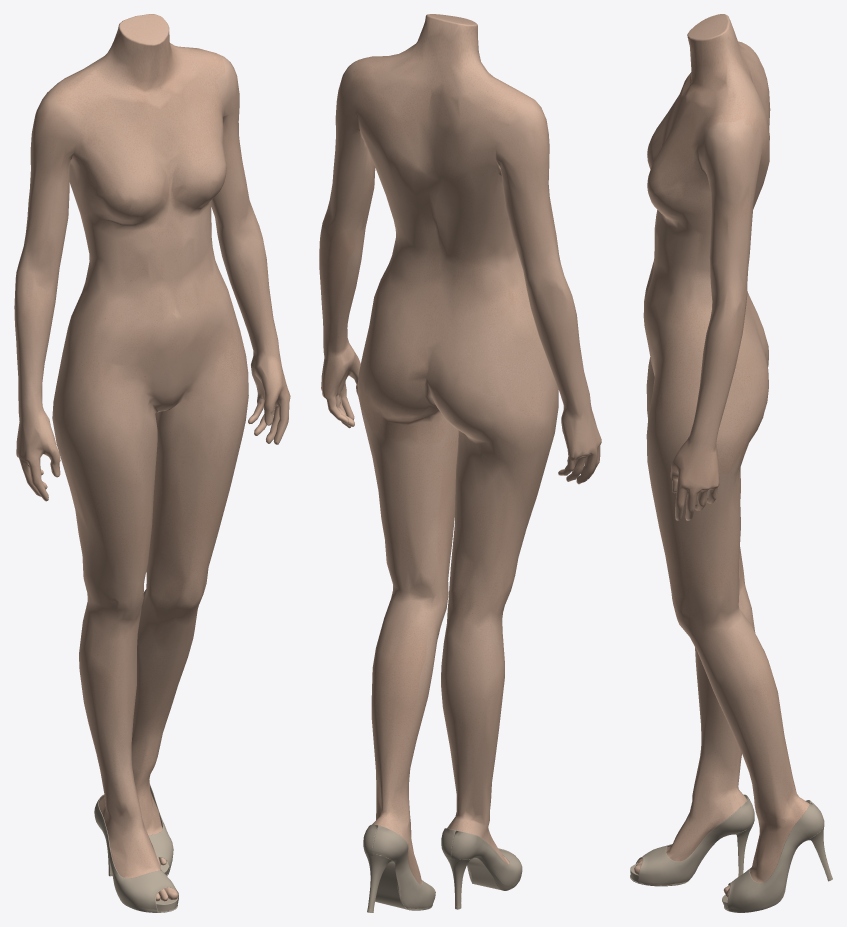
Rendered from trench_coat_body3.glb.
3 renders of one model, left to right at view 1: azimuth 30°, elevation 25°; view 2: azimuth 150°, elevation 25°; view 3: azimuth 270°, elevation 25°, orthographic. The views are drawn at different scales.
Parts seen in each view (by area): view 1: shoes_r_Node, shoes_r_Node.001; view 2: shoes_r_Node, shoes_r_Node.001; view 3: shoes_r_Node, shoes_r_Node.001.
Part boxes in pixels (left/top/right/bottom): shoes_r_Node: left=14, top=14, right=290, bottom=901; shoes_r_Node.001: left=94, top=783, right=178, bottom=912; shoes_r_Node: left=319, top=14, right=601, bottom=884; shoes_r_Node.001: left=363, top=824, right=522, bottom=912; shoes_r_Node: left=634, top=14, right=809, bottom=897; shoes_r_Node.001: left=630, top=794, right=832, bottom=912.
Bounding box in the file's own units: 53.57 × 168 × 35.22.
2 materials, 1 textured.
